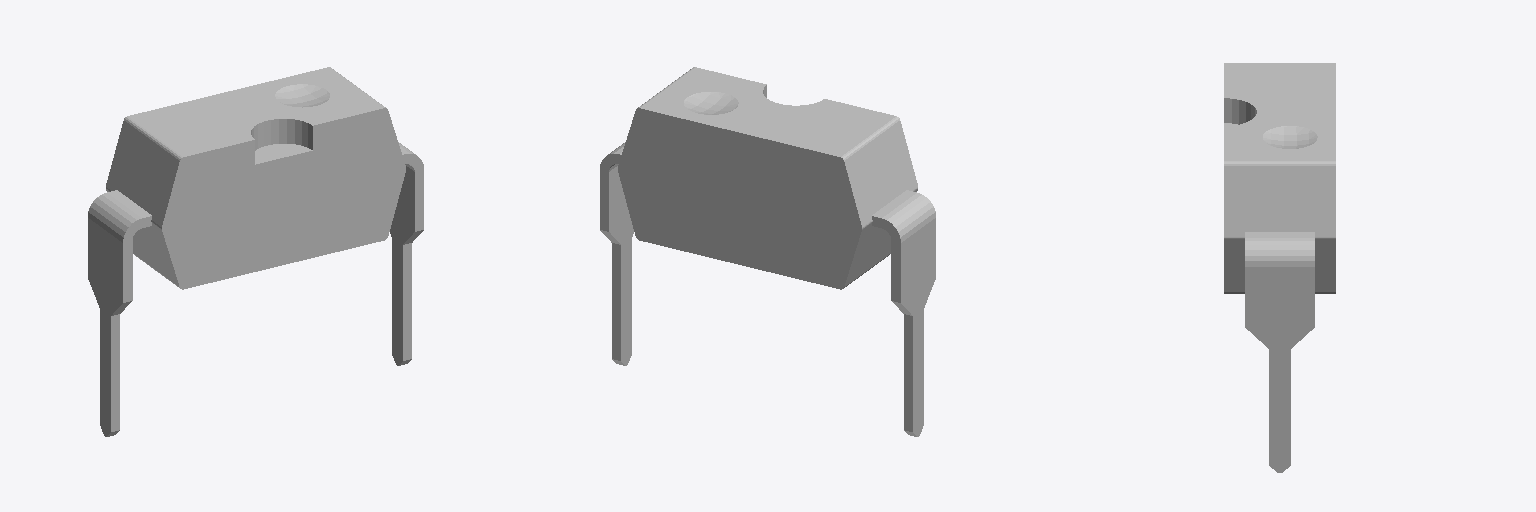
3 views of the same model, side by side, from view 1: azimuth 30°, elevation 25°; view 2: azimuth 150°, elevation 25°; view 3: azimuth 270°, elevation 25° (orthographic).
Parts seen in each view (by area): view 1: Volumenkörper1; view 2: Volumenkörper1; view 3: Volumenkörper1.
Part boxes in pixels (x1,y1,x2,y2): Volumenkörper1: (88, 67, 423, 436); Volumenkörper1: (600, 67, 935, 436); Volumenkörper1: (1224, 63, 1335, 472).
Bounding box in the file's own units: 7.87 × 7.17 × 2.54.